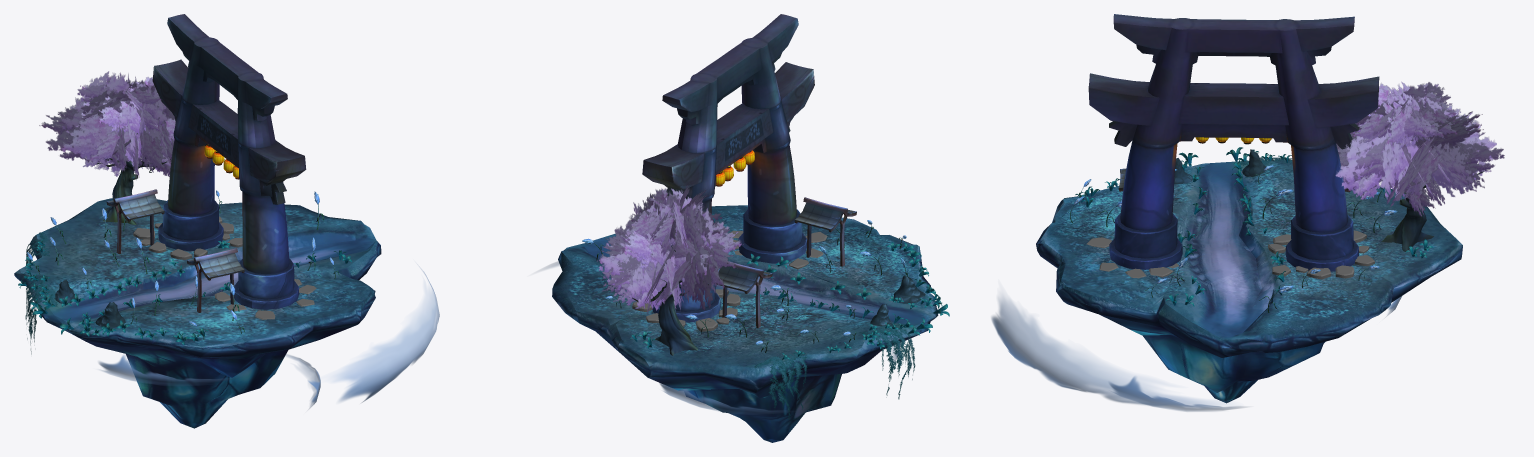
File: night.glb
3 views of the same model, side by side, from view 1: azimuth 30°, elevation 25°; view 2: azimuth 150°, elevation 25°; view 3: azimuth 270°, elevation 25° (orthographic). The views are drawn at different scales.
Visible parts, largest first — view 1: tierra.001, portal.001, nube001, techoaljibe, Plane809, sakuraplano009, lajas.001, colgante, sakura.001, RetopoGroup003.001, sakuraplano012, sakuraplano036 (+6 smaller); view 2: tierra.001, portal.001, techoaljibe, colgante, Plane809, lajas.001, sakura.001, nube001, sakuraplano040, RetopoGroup003.001, sakuraplano015, sakuraplano046 (+5 smaller); view 3: tierra.001, portal.001, nube001, Plane809, lajas.001, sakuraplano008, sakura.001, sakuraplano043, sakuraplano003, sakuraplano015, sakuraplano054, sakuraplano007 (+4 smaller).
Boxes of the visible parts, <box> form: tierra.001: <box>14,198,381,428</box>; portal.001: <box>152,14,306,309</box>; nube001: <box>98,266,439,408</box>; techoaljibe: <box>106,189,244,312</box>; Plane809: <box>18,239,351,345</box>; sakuraplano009: <box>58,111,132,176</box>; lajas.001: <box>133,216,316,319</box>; colgante: <box>25,232,57,354</box>; sakura.001: <box>96,157,170,224</box>; RetopoGroup003.001: <box>54,279,125,328</box>; sakuraplano012: <box>137,130,165,172</box>; sakuraplano036: <box>88,131,135,163</box>; tierra.001: <box>552,205,938,442</box>; portal.001: <box>642,14,814,322</box>; techoaljibe: <box>714,197,856,328</box>; colgante: <box>754,324,915,419</box>; Plane809: <box>630,242,949,359</box>; lajas.001: <box>632,230,827,331</box>; sakura.001: <box>629,244,715,355</box>; nube001: <box>539,261,900,414</box>; sakuraplano040: <box>613,258,672,308</box>; RetopoGroup003.001: <box>870,275,925,326</box>; sakuraplano015: <box>627,262,662,310</box>; sakuraplano046: <box>598,249,640,302</box>; tierra.001: <box>1036,160,1462,403</box>; portal.001: <box>1088,14,1379,271</box>; nube001: <box>991,294,1401,411</box>; Plane809: <box>1075,147,1433,306</box>; lajas.001: <box>1086,230,1374,279</box>; sakuraplano008: <box>1335,117,1418,191</box>; sakura.001: <box>1379,137,1485,251</box>; sakuraplano043: <box>1380,129,1412,200</box>; sakuraplano003: <box>1427,142,1476,196</box>; sakuraplano015: <box>1446,142,1504,172</box>; sakuraplano054: <box>1386,102,1417,149</box>; sakuraplano007: <box>1402,144,1443,200</box>.
Size of the model in its own units: 264 by 234 by 285.
16 materials, 14 textured.
